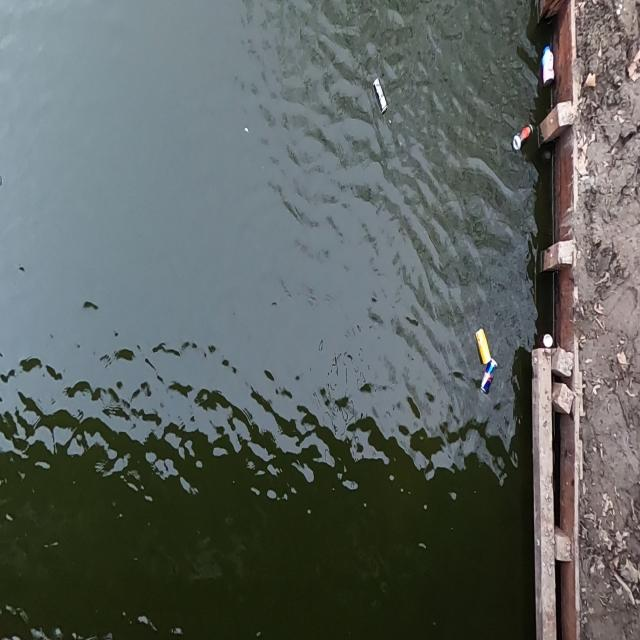Non plastique: (369, 70, 391, 121), (511, 120, 536, 157), (472, 323, 491, 365), (481, 359, 500, 396)
